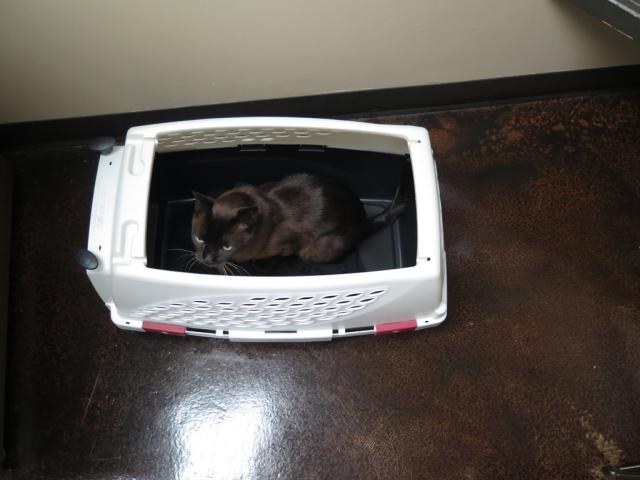Cat: (167, 170, 406, 276)
